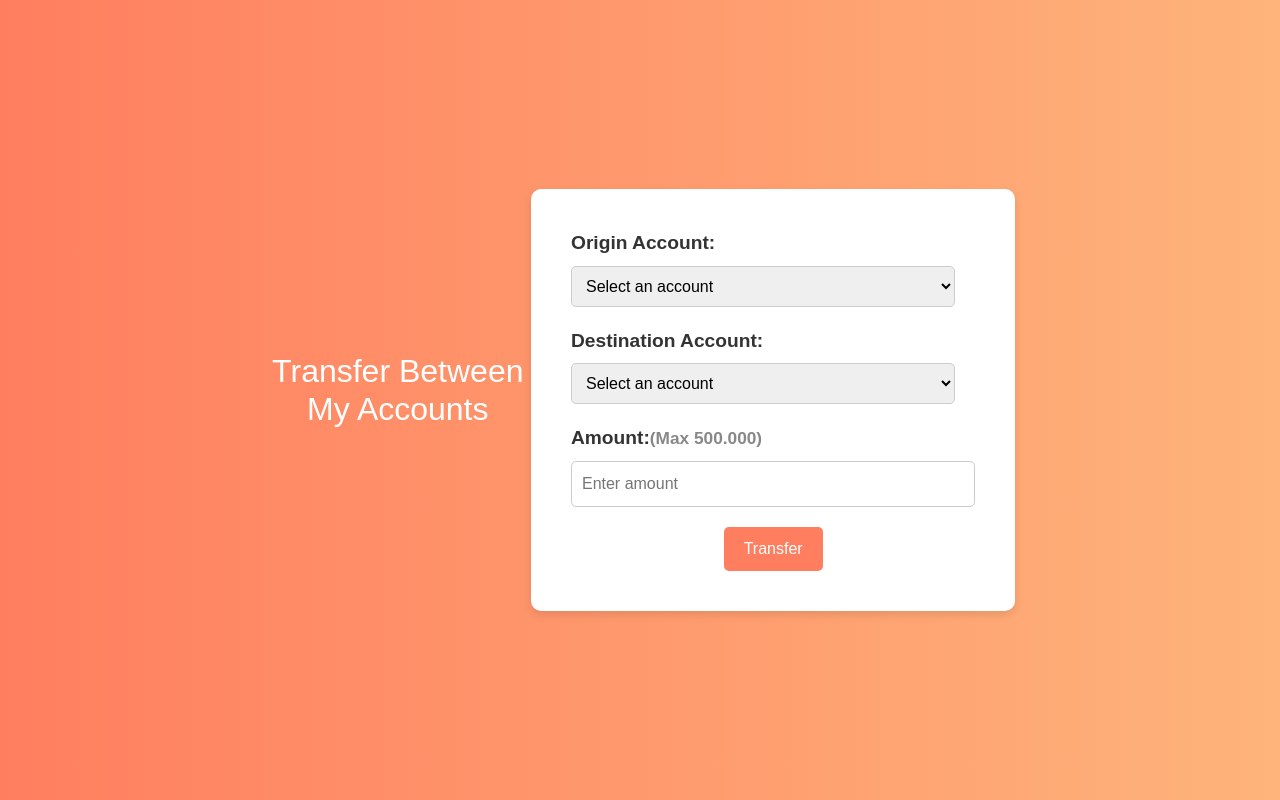
Test case: TransferBetweenMyAccounts Component › shows error message when transferring from credit account
The image size is (1280, 800).
Select "Credit Account" in the dropdown labelled "Origin Account:" at (763, 286), box x1=571 y1=266 x2=955 y2=307
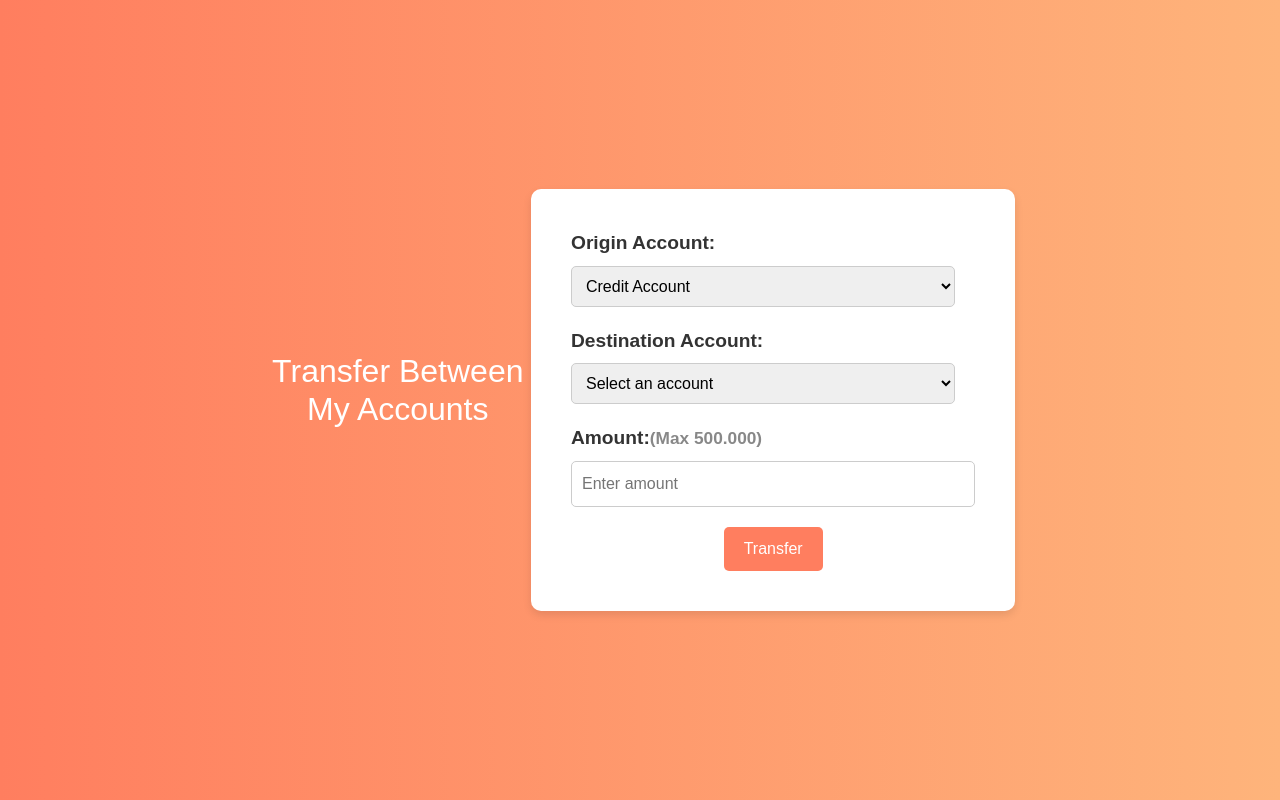
Select "Savings Account" in the dropdown labelled "Destination Account:" at (763, 384), box x1=571 y1=363 x2=955 y2=404
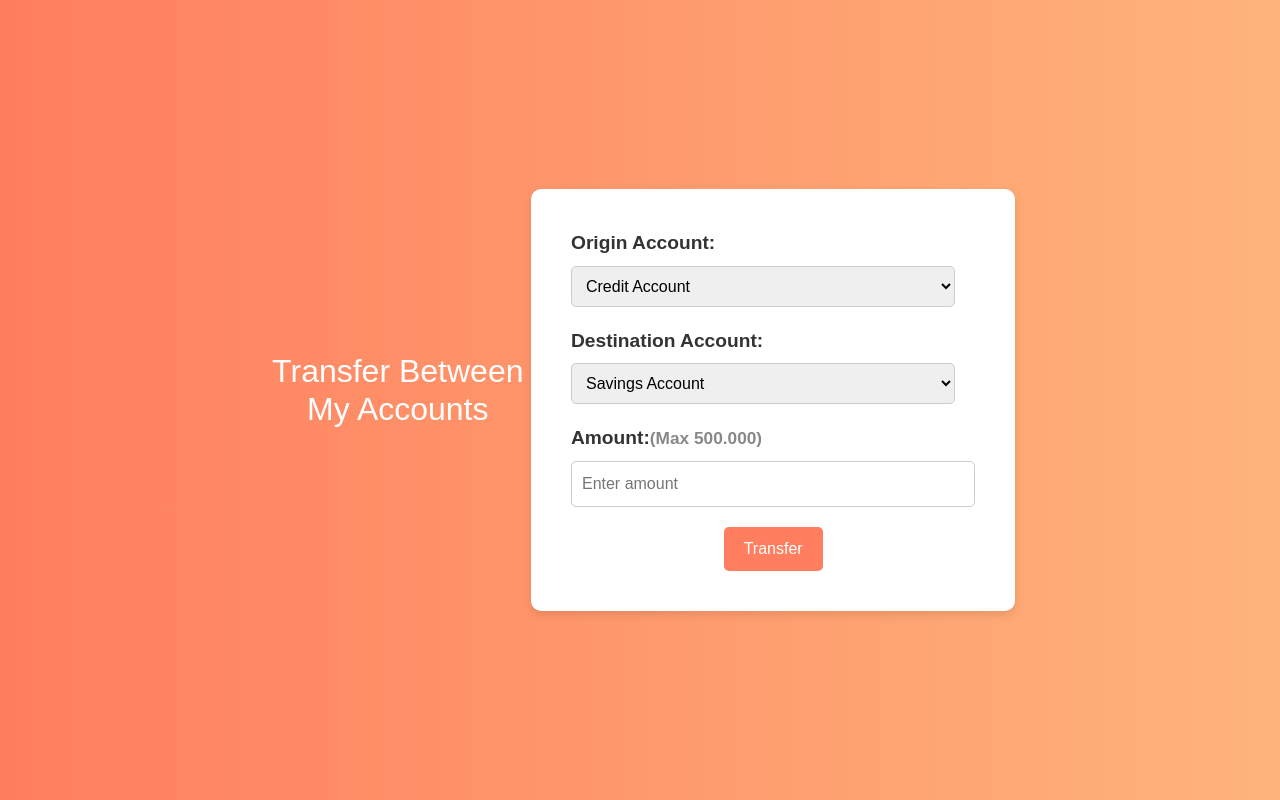
Type "100" into the field with placeholder "Enter amount" at (773, 484), box x1=571 y1=461 x2=975 y2=507
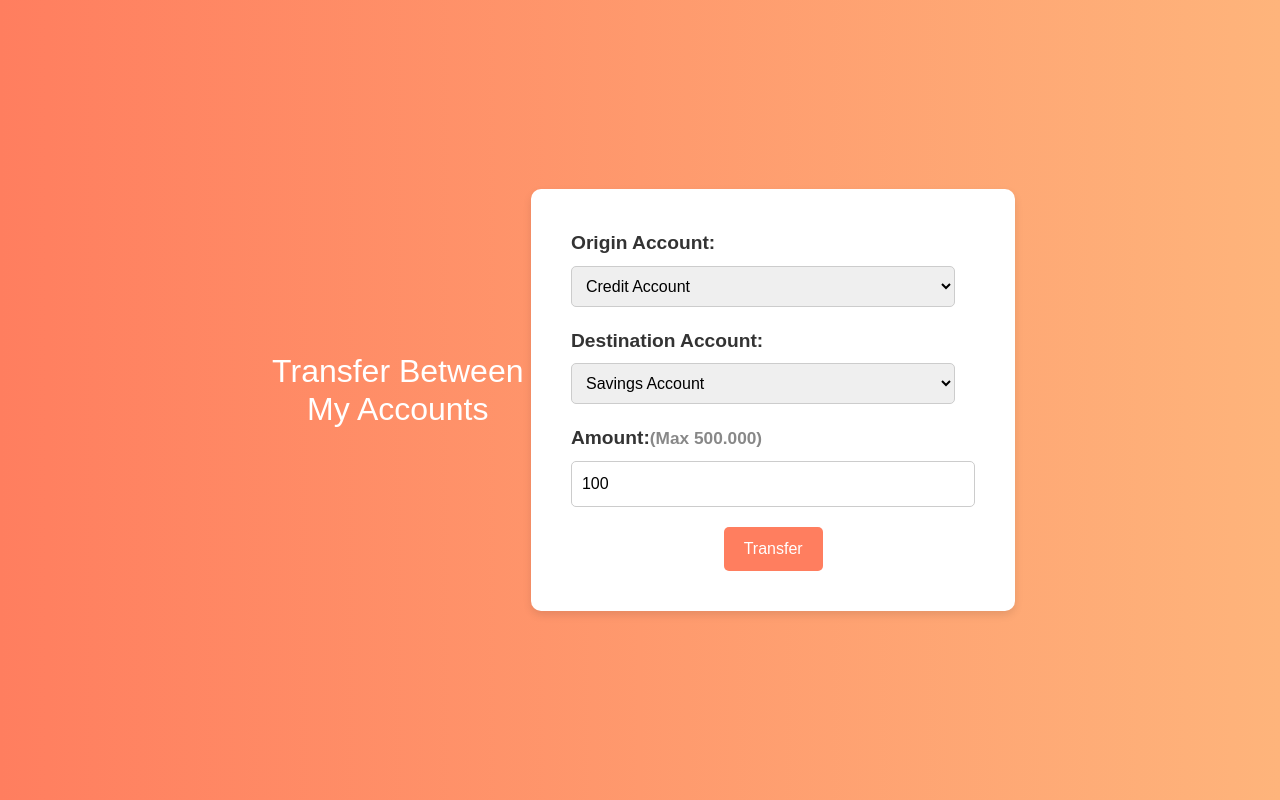
Click the button "Transfer" at (773, 549), box x1=724 y1=527 x2=823 y2=571
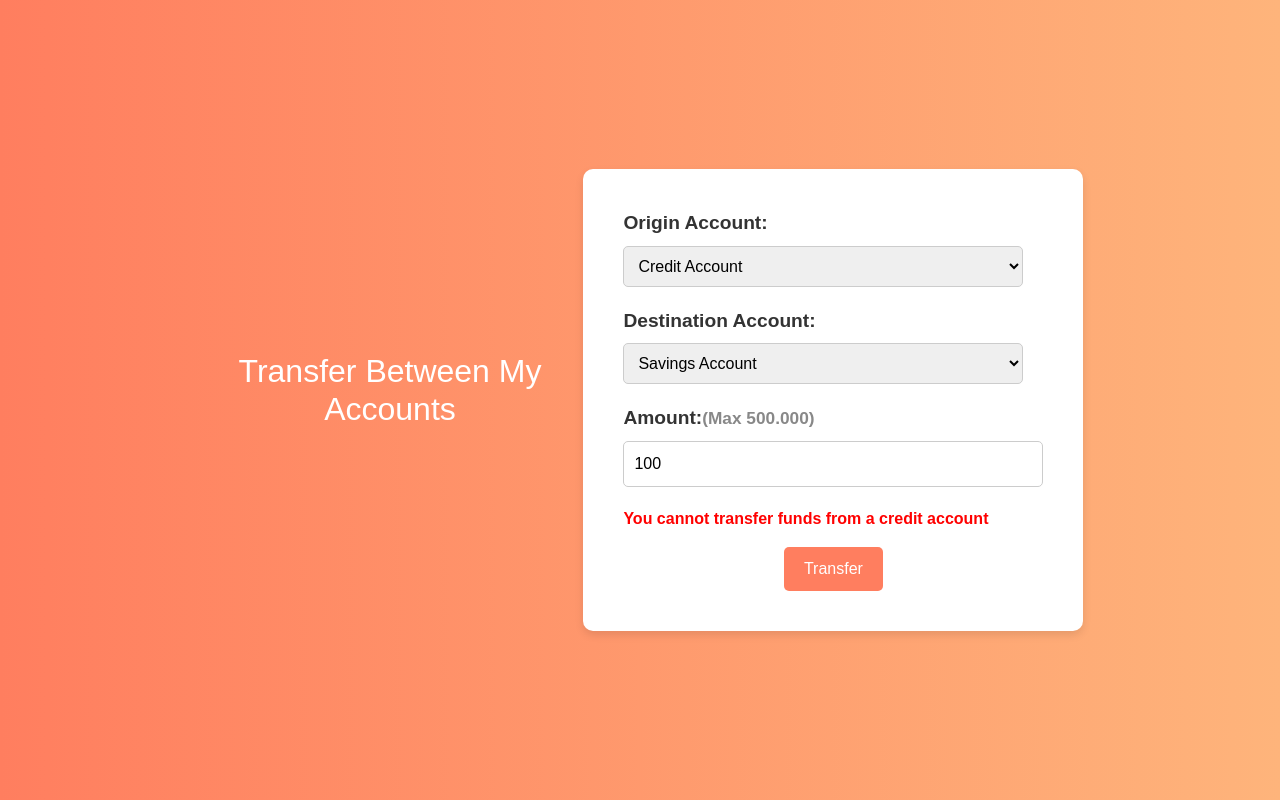
Expected: the element with test id "error-messages" reads "You cannot transfer funds from a credit account", x1=623 y1=510 x2=988 y2=527
